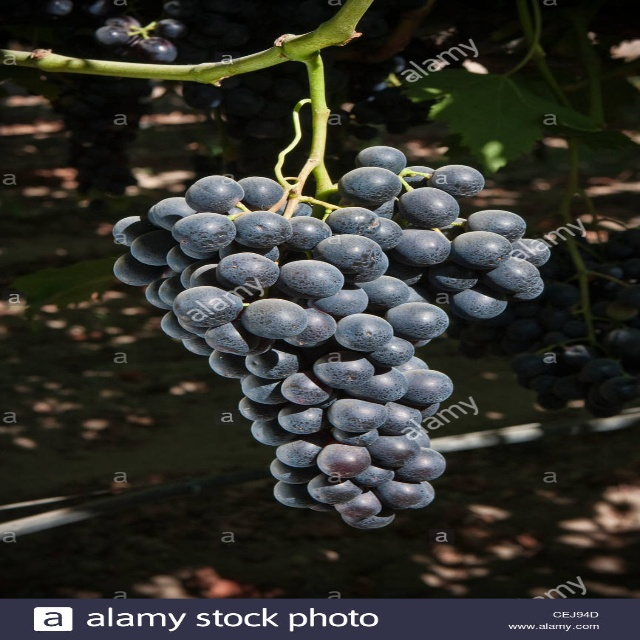grape: (108, 138, 556, 532)
